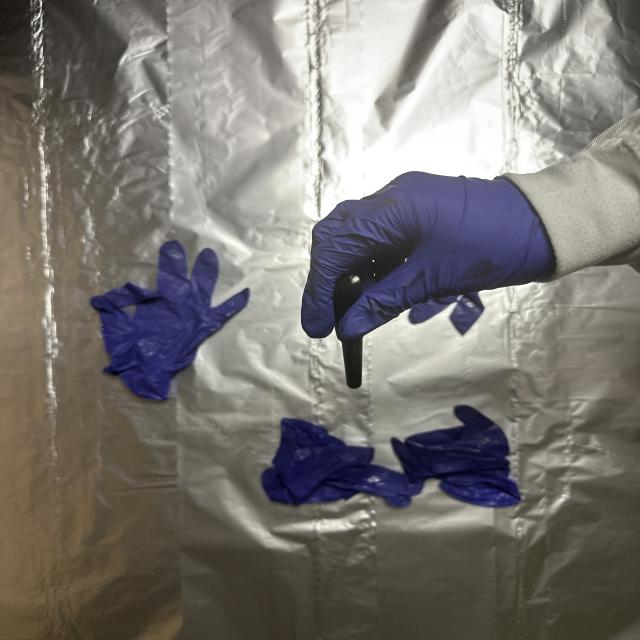gloves_contaminated: (302, 172, 554, 338)
